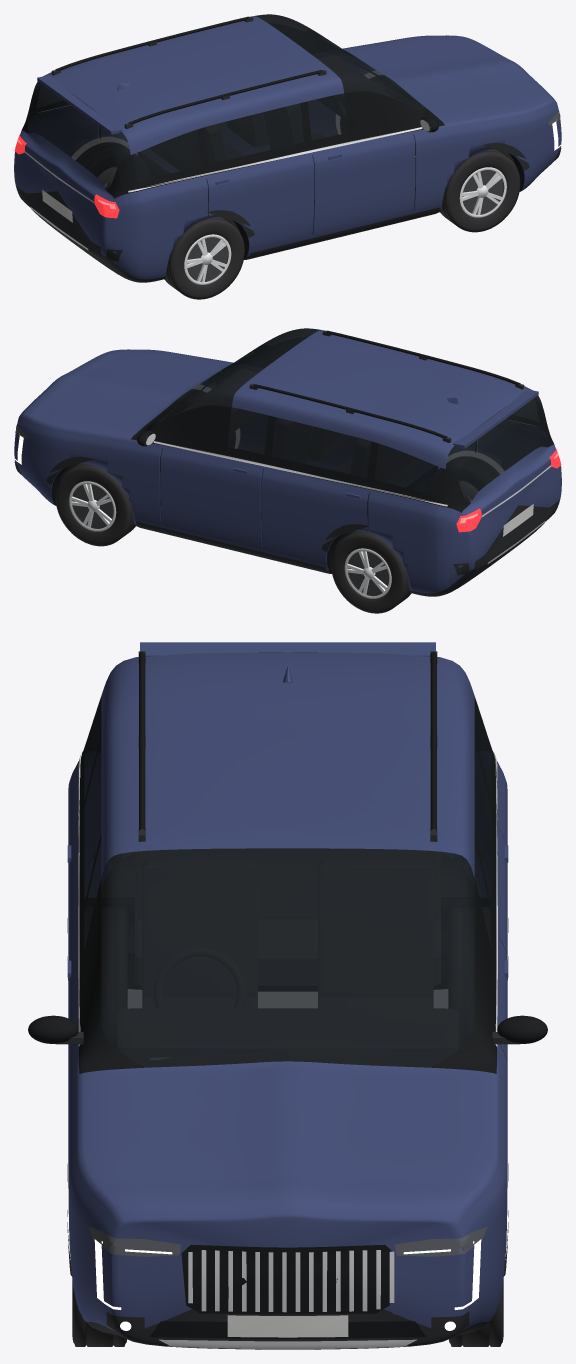
Rendered from mahindra-xuv700-model.glb.
The picture shows the model from 3 angles, top to bottom: view 1: azimuth 30°, elevation 25°; view 2: azimuth 150°, elevation 25°; view 3: azimuth 270°, elevation 25°; orthographic projection. The views are drawn at different scales.
Visible parts, largest first — view 1: Body, Wheel.004, Wheel.002, Wheel.003, SeatBack.002, SeatBack.001, Dashboard, SillCladding.001, RearBumper, Spoiler, WindowChrome.001, RoofRail.001 (+8 smaller); view 2: Body, Wheel.003, Wheel.001, Wheel.004, SeatBack.002, Dashboard, SeatBack, SillCladding, RearBumper, Spoiler, WindowChrome, RoofRail (+8 smaller); view 3: Body, Dashboard, SeatBack, SeatBack.001, Grille, SeatBack.002, SeatBase.002, Spoiler, Wheel.003, Wheel.004, Intake, PlateFront (+14 smaller).
Part boxes in pixels (box(x1,y1,x2,y2)): Body: box(14, 14, 561, 282); Wheel.004: box(164, 217, 244, 299); Wheel.002: box(440, 149, 520, 232); Wheel.003: box(76, 143, 149, 188); SeatBack.002: box(160, 125, 225, 167); SeatBack.001: box(264, 105, 303, 148); Dashboard: box(317, 55, 394, 120); SillCladding.001: box(244, 207, 439, 259); RearBumper: box(16, 186, 122, 261); Spoiler: box(37, 75, 122, 134); WindowChrome.001: box(128, 127, 422, 192); RoofRail.001: box(128, 70, 322, 124); Body: box(14, 328, 561, 596); Wheel.003: box(331, 531, 411, 613); Wheel.001: box(55, 463, 135, 546); Wheel.004: box(426, 457, 499, 502); SeatBack.002: box(350, 439, 415, 481); Dashboard: box(181, 369, 258, 434); SeatBack: box(272, 419, 311, 462); SillCladding: box(136, 521, 331, 573); RearBumper: box(453, 500, 559, 575); Spoiler: box(453, 389, 538, 448); WindowChrome: box(153, 441, 447, 506); RoofRail: box(253, 384, 447, 438); Body: box(68, 652, 507, 1349); Dashboard: box(118, 1009, 457, 1066); SeatBack: box(318, 860, 432, 996); SeatBack.001: box(143, 860, 257, 996); Grille: box(181, 1245, 392, 1314); SeatBack.002: box(135, 849, 440, 918); SeatBase.002: box(135, 916, 440, 984); Spoiler: box(140, 642, 435, 656); Wheel.003: box(449, 907, 490, 1048); Wheel.004: box(85, 907, 126, 1048); Intake: box(149, 1321, 426, 1338); PlateFront: box(227, 1315, 348, 1337).
Size of the model in its own units: 4.64 by 1.76 by 2.25.
